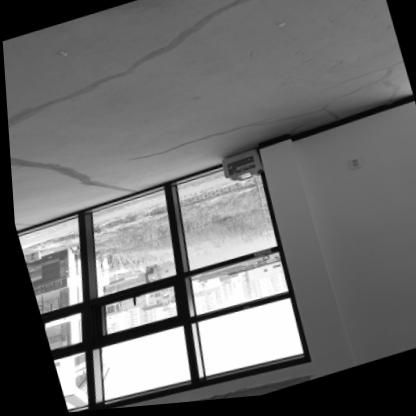DDL: (216, 151, 260, 187)
